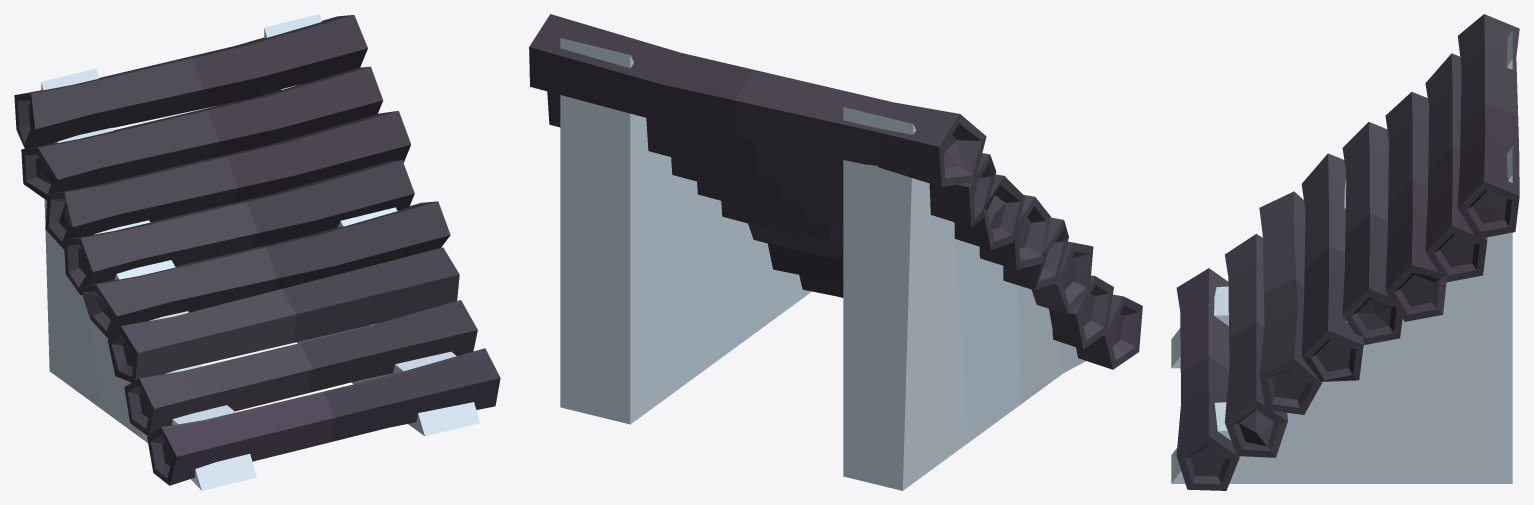
Rendered from SS_RampWood.fbx.
3 renders of one model, left to right at view 1: azimuth 30°, elevation 25°; view 2: azimuth 150°, elevation 25°; view 3: azimuth 270°, elevation 25°, orthographic. The views are drawn at different scales.
Parts seen in each view (by area): view 1: RampWood; view 2: RampWood; view 3: RampWood.
Boxes of the visible parts, box(x1,y1,x2,y2) form: RampWood: box(14, 14, 500, 490); RampWood: box(529, 14, 1142, 490); RampWood: box(1171, 14, 1519, 490).
Bounding box in the file's own units: 2.46 × 2.03 × 2.04.
1 material, 1 textured.
